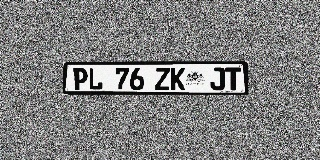plate: (63, 61, 249, 95)
